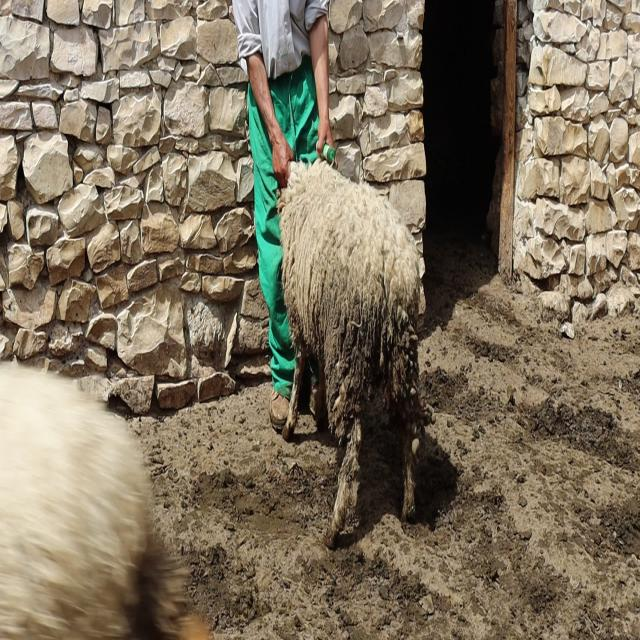Score_4: (277, 158, 432, 547)
